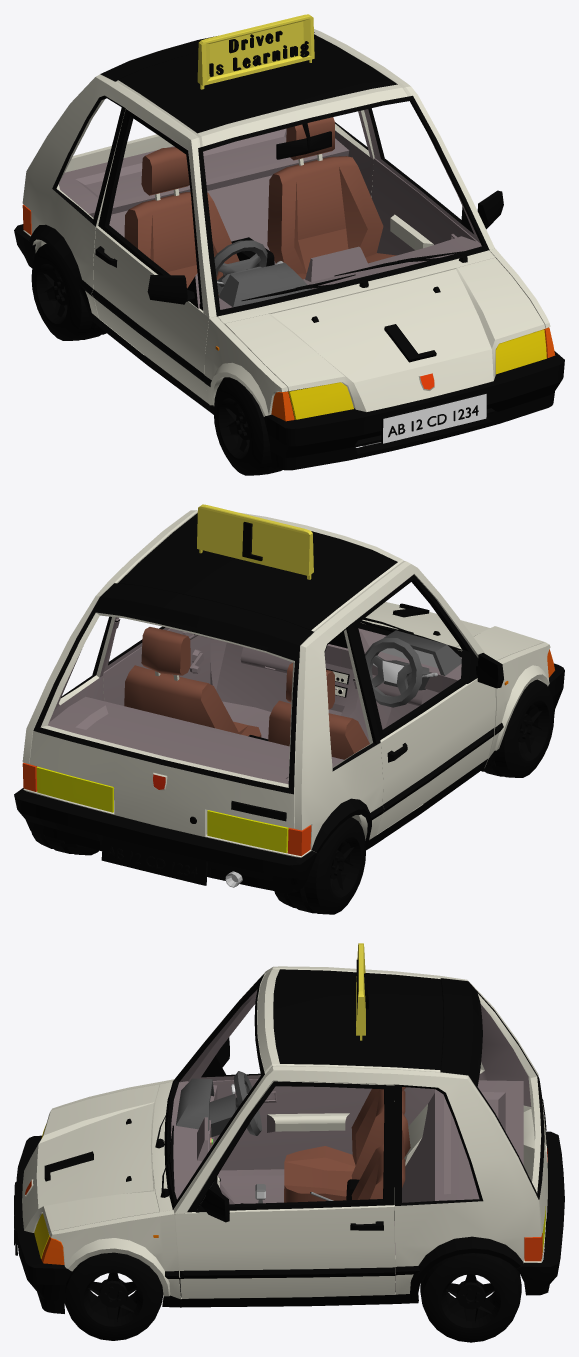
Rendered from New Learning Car.glb.
3 views of the same model, one above another, from view 1: azimuth 30°, elevation 25°; view 2: azimuth 150°, elevation 25°; view 3: azimuth 270°, elevation 25° (orthographic). The views are drawn at different scales.
Parts seen in each view (by area): view 1: Body, Bonet, Doors_R, Bumper_F, Body.001, Body.005, Doors_L, Cube.003, Wheel_FR, Wheel_RR, Fender_FR, TurnSignal_FR (+13 smaller); view 2: Body, Bootlid, Doors_R, Bumper_R, Body.001, Cube.003, Wheel_RR, Lights_RR, Wheel_FR, Bonet, Fender_FR, Body.005 (+7 smaller); view 3: Body, Doors_L, Bonet, Doors_R, Wheel_RL, Wheel_FL, Bootlid, Fender_FL, Body.005, Bumper_R, Bumper_F, InteriorAssymetry (+7 smaller).
Boxes of the visible parts, left/top/right/bottom form: Body: left=22, top=29, right=494, bottom=413; Bonet: left=224, top=257, right=545, bottom=411; Doors_R: left=91, top=109, right=209, bottom=403; Bumper_F: left=264, top=351, right=564, bottom=470; Body.001: left=267, top=117, right=396, bottom=279; Body.005: left=124, top=147, right=239, bottom=295; Doors_L: left=364, top=108, right=480, bottom=255; Cube.003: left=197, top=14, right=314, bottom=89; Wheel_FR: left=213, top=377, right=297, bottom=475; Wheel_RR: left=31, top=243, right=106, bottom=340; Fender_FR: left=203, top=316, right=288, bottom=416; TurnSignal_FR: left=288, top=329, right=546, bottom=419; Body: left=22, top=510, right=487, bottom=857; Bootlid: left=29, top=583, right=314, bottom=836; Doors_R: left=351, top=574, right=495, bottom=834; Bumper_R: left=14, top=788, right=317, bottom=893; Body.001: left=124, top=627, right=261, bottom=737; Cube.003: left=197, top=504, right=313, bottom=579; Wheel_RR: left=274, top=817, right=365, bottom=914; Lights_RR: left=36, top=766, right=288, bottom=853; Wheel_FR: left=481, top=679, right=554, bottom=777; Bonet: left=362, top=602, right=544, bottom=660; Fender_FR: left=484, top=642, right=550, bottom=768; Body.005: left=268, top=663, right=369, bottom=759; Body: left=152, top=966, right=546, bottom=1307; Doors_L: left=175, top=1081, right=395, bottom=1298; Bonet: left=22, top=1084, right=159, bottom=1234; Doors_R: left=188, top=994, right=371, bottom=1170; Wheel_RL: left=420, top=1253, right=521, bottom=1342; Wheel_FL: left=64, top=1252, right=163, bottom=1340; Bootlid: left=440, top=978, right=547, bottom=1232; Fender_FL: left=49, top=1210, right=181, bottom=1307; Body.005: left=284, top=1087, right=405, bottom=1202; Bumper_R: left=516, top=1131, right=564, bottom=1295; Bumper_F: left=15, top=1135, right=71, bottom=1313; InteriorAssymetry: left=176, top=1078, right=214, bottom=1130.
Bounding box in the file's own units: 119 × 102 × 165.
